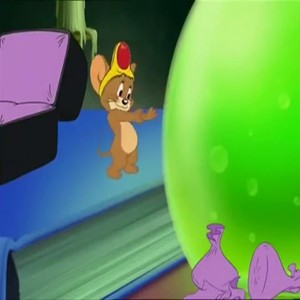Jerry: (89, 42, 150, 181)
